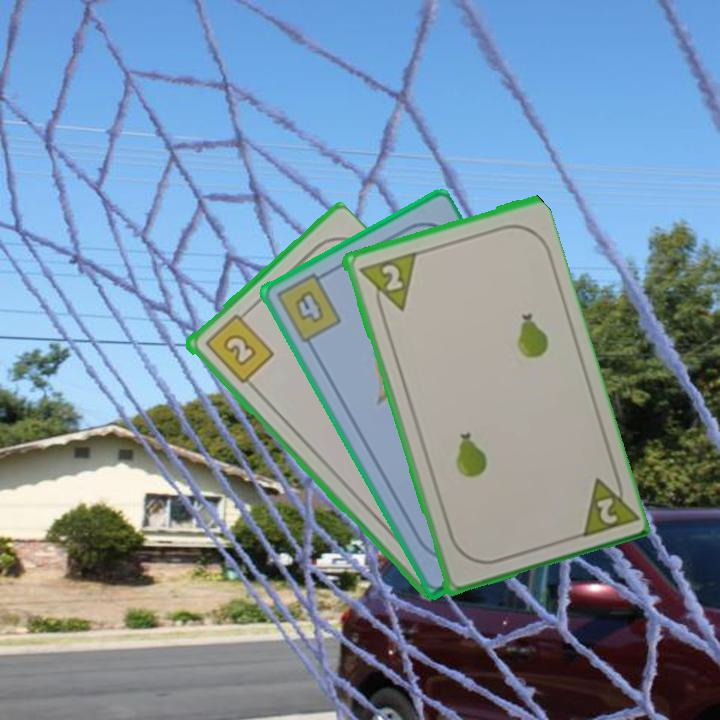2b: (200, 306, 276, 386)
2p: (573, 466, 638, 541), (354, 248, 418, 319)
4b: (271, 267, 344, 346)
